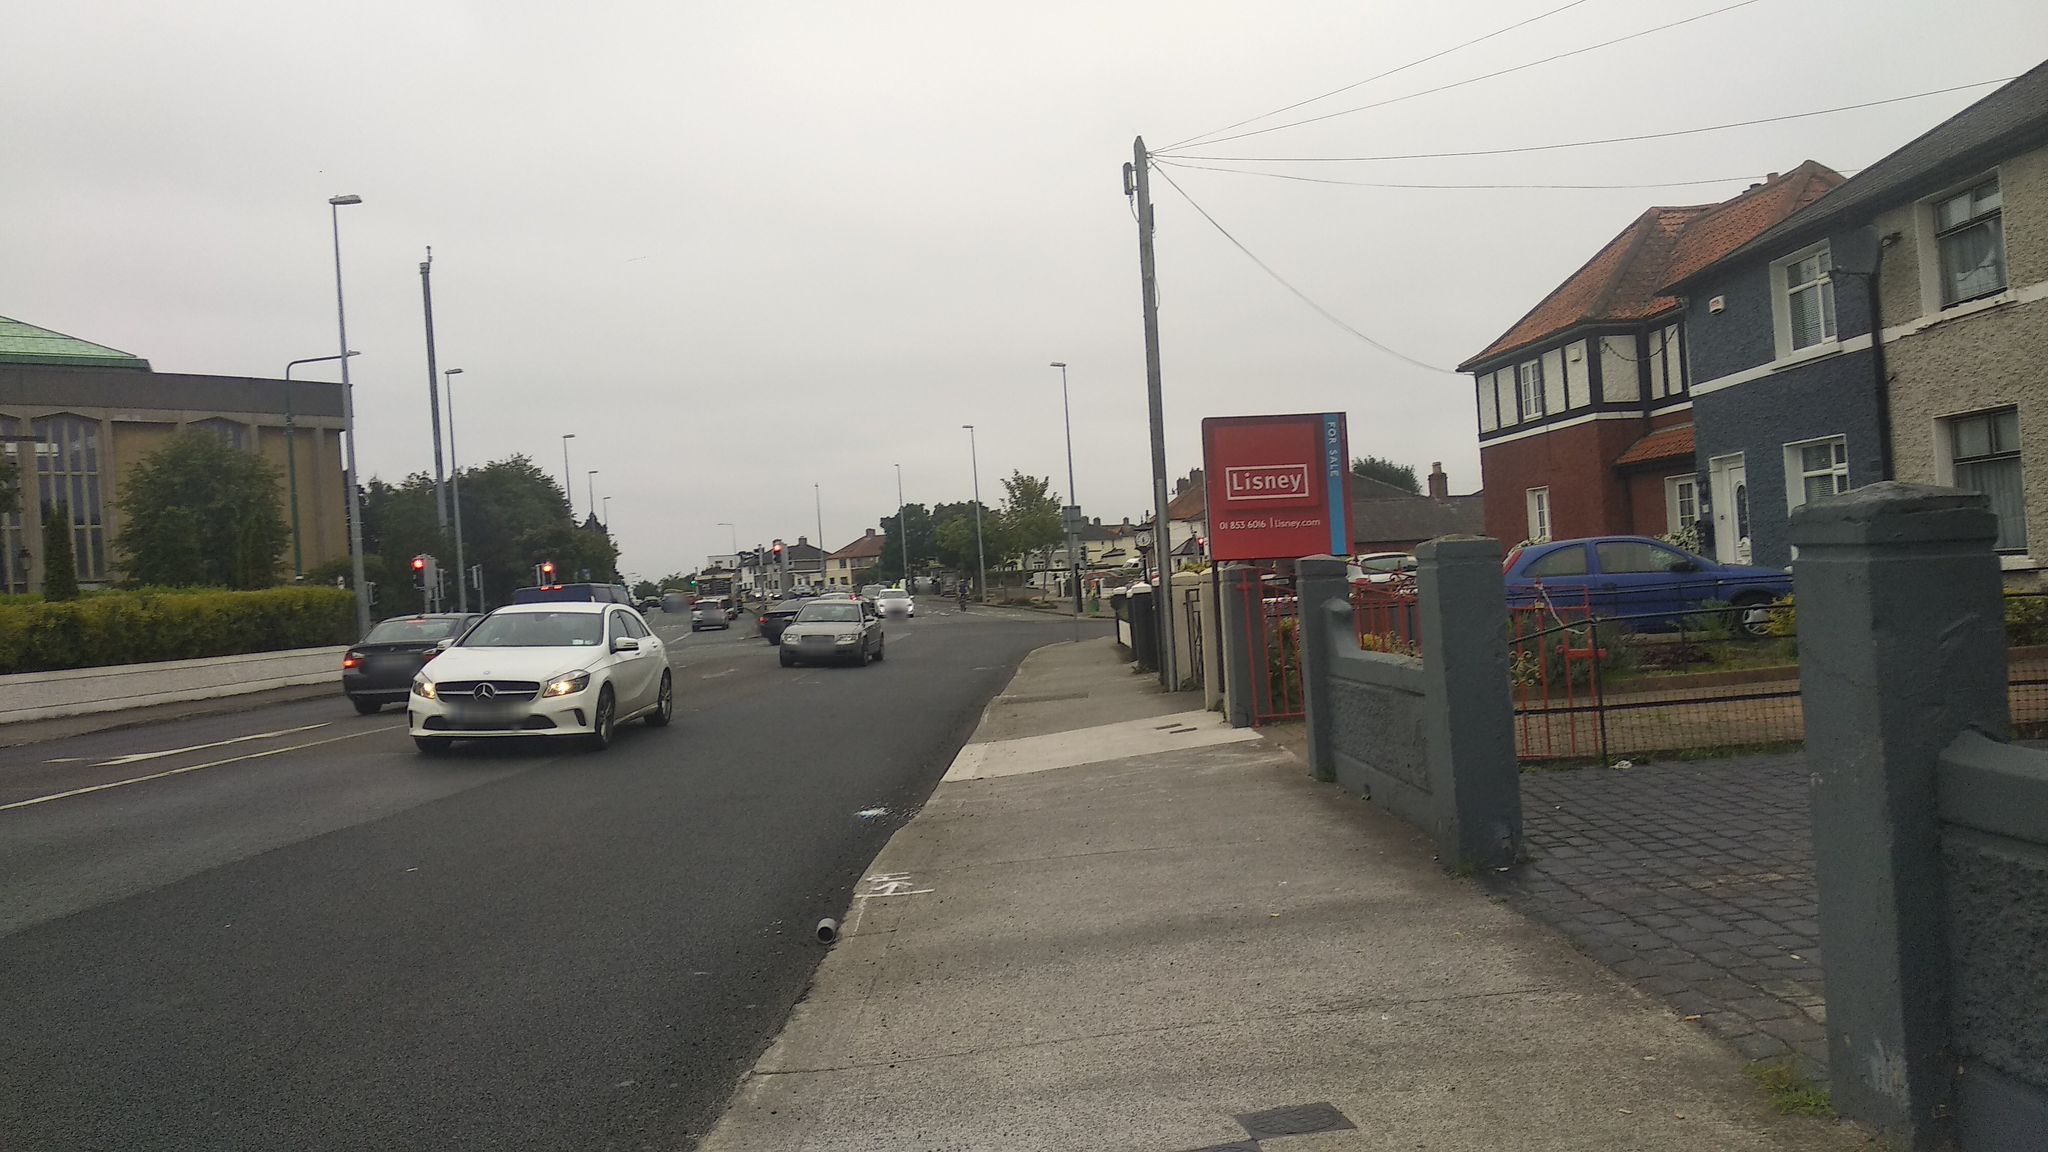property sign: (1184, 404, 1383, 567)
